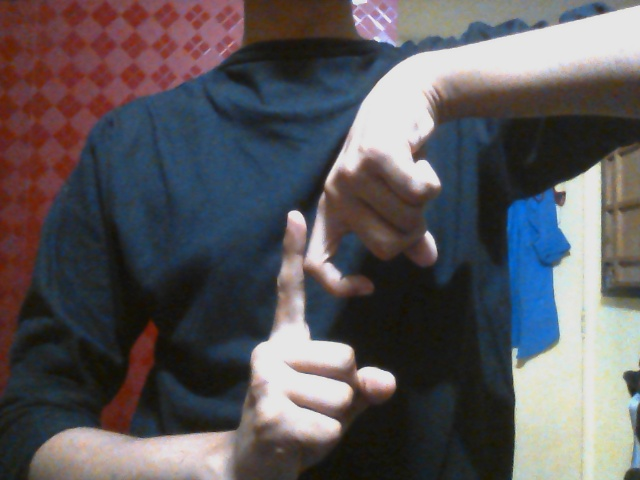K: (242, 151, 436, 457)
